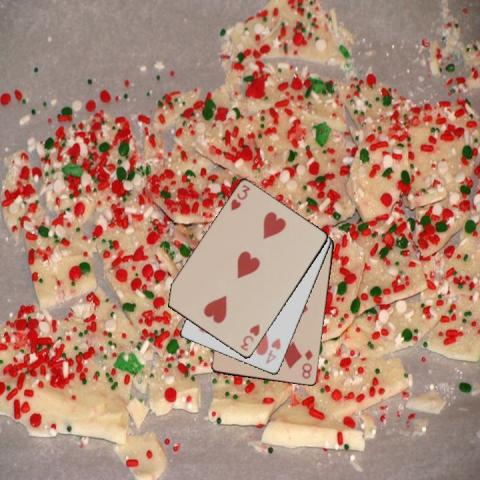3h: (237, 321, 262, 353), (228, 182, 251, 212)
4h: (262, 335, 283, 366)
8d: (299, 347, 315, 380)
